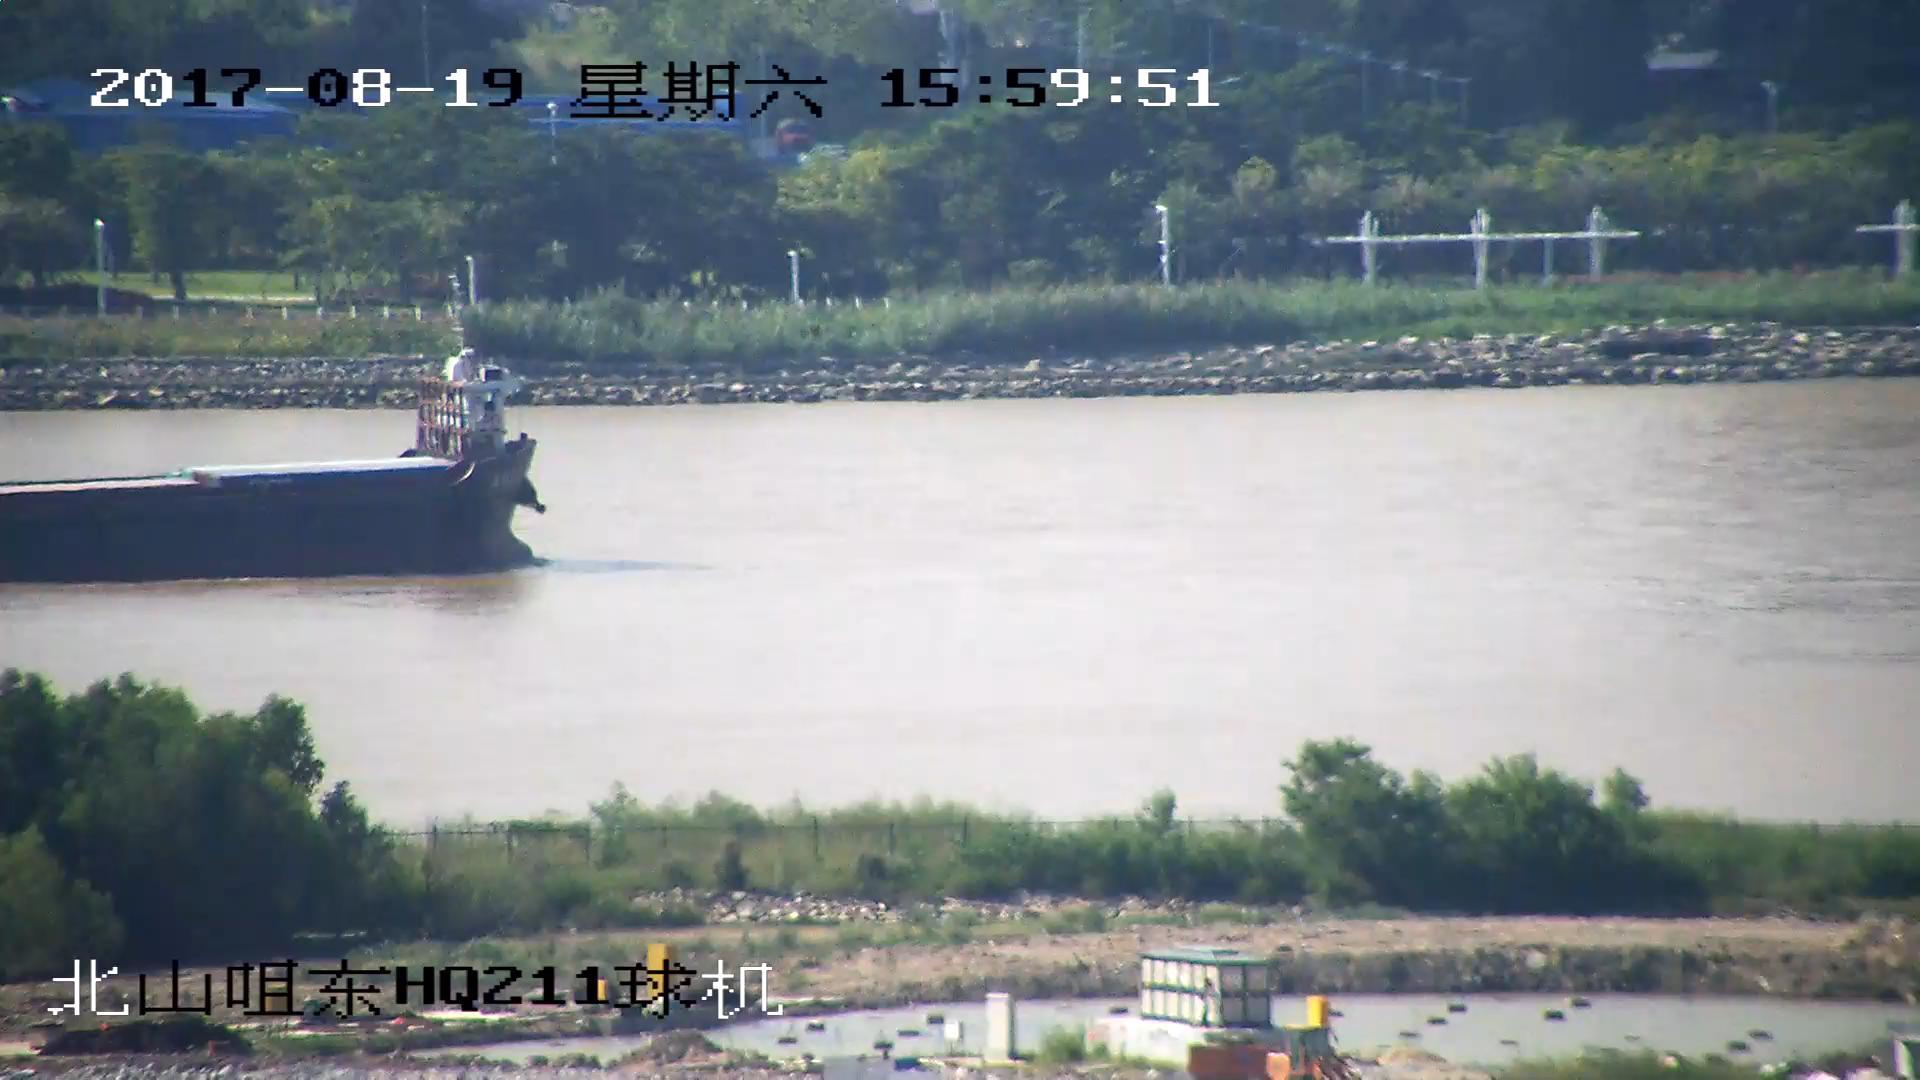general cargo ship: (1, 316, 558, 583)
